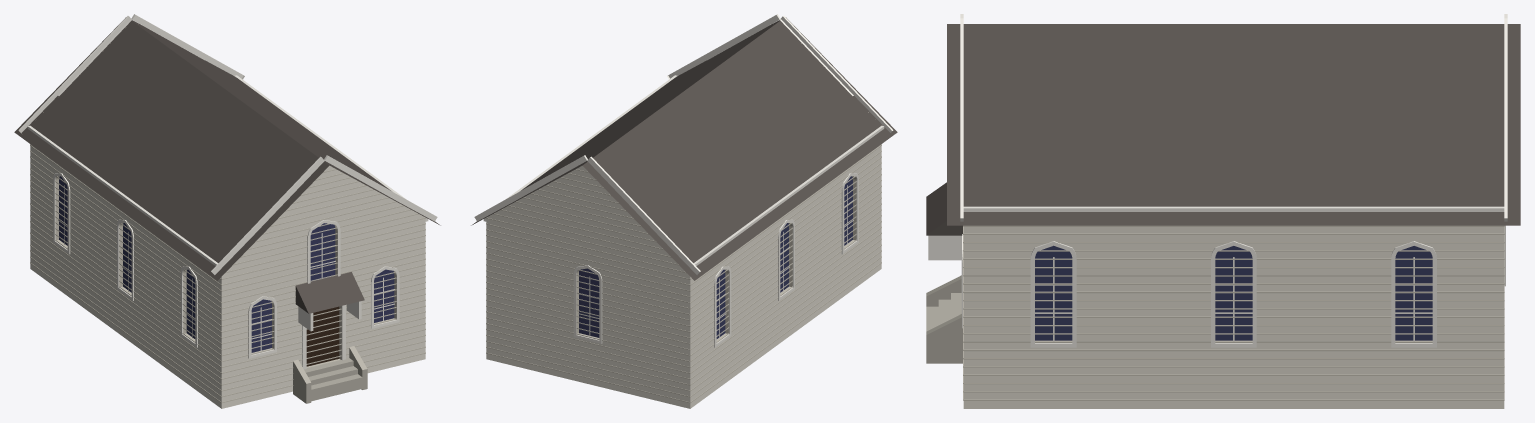
File: ch-st-johns-baptist-1913.glb
The picture shows the model from 3 angles, left to right: view 1: azimuth 30°, elevation 25°; view 2: azimuth 150°, elevation 25°; view 3: azimuth 270°, elevation 25°; orthographic projection. The views are drawn at different scales.
Visible parts, largest first — view 1: ch_brick, ch_roof, ch_brick2, ch_trim, ch_stain, ch_conc, ch_roof2, ch_door; view 2: ch_brick, ch_roof, ch_brick2, ch_trim, ch_stain; view 3: ch_roof, ch_brick, ch_brick2, ch_trim, ch_stain, ch_conc, ch_roof2.
Boxes of the visible parts, x1,y1,x2,y2 form: ch_brick: (30,144,425,408); ch_roof: (14,17,440,280); ch_brick2: (30,27,425,403); ch_trim: (18,14,437,369); ch_stain: (59,176,394,352); ch_conc: (293,346,367,403); ch_roof2: (295,272,364,313); ch_door: (306,306,339,366); ch_brick: (486,144,881,408); ch_roof: (471,17,897,280); ch_brick2: (486,43,881,403); ch_trim: (474,14,893,347); ch_stain: (579,176,852,338); ch_roof: (947,24,1520,225); ch_brick: (963,227,1504,408); ch_brick2: (963,225,1504,400); ch_trim: (928,14,1507,347); ch_stain: (1035,245,1432,340); ch_conc: (926,275,962,363); ch_roof2: (926,182,962,235).
Size of the model in its own units: 8.84 by 8.66 by 14.3.
